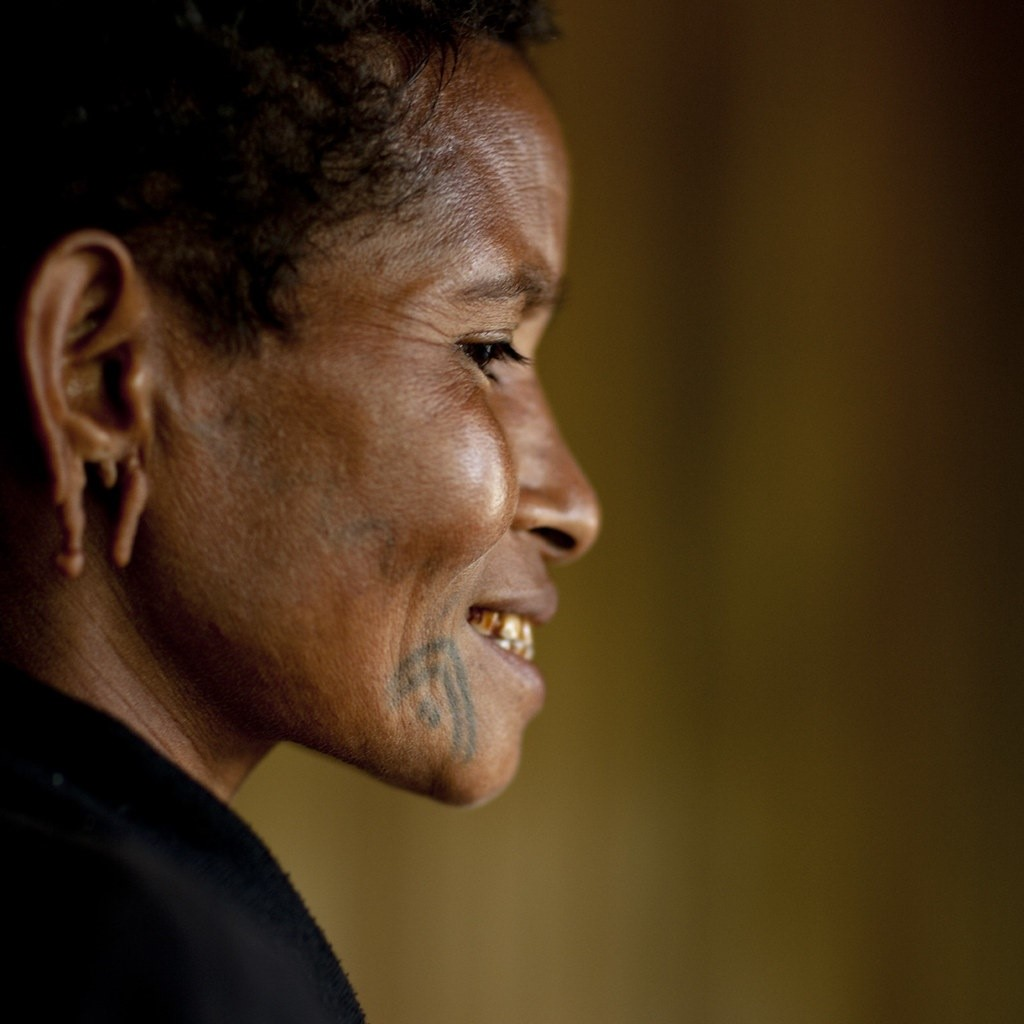face_no_mask: (6, 7, 606, 809)
